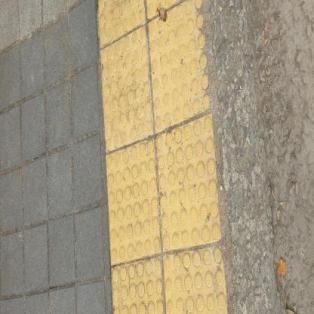Podoctatil: (94, 0, 232, 313)
